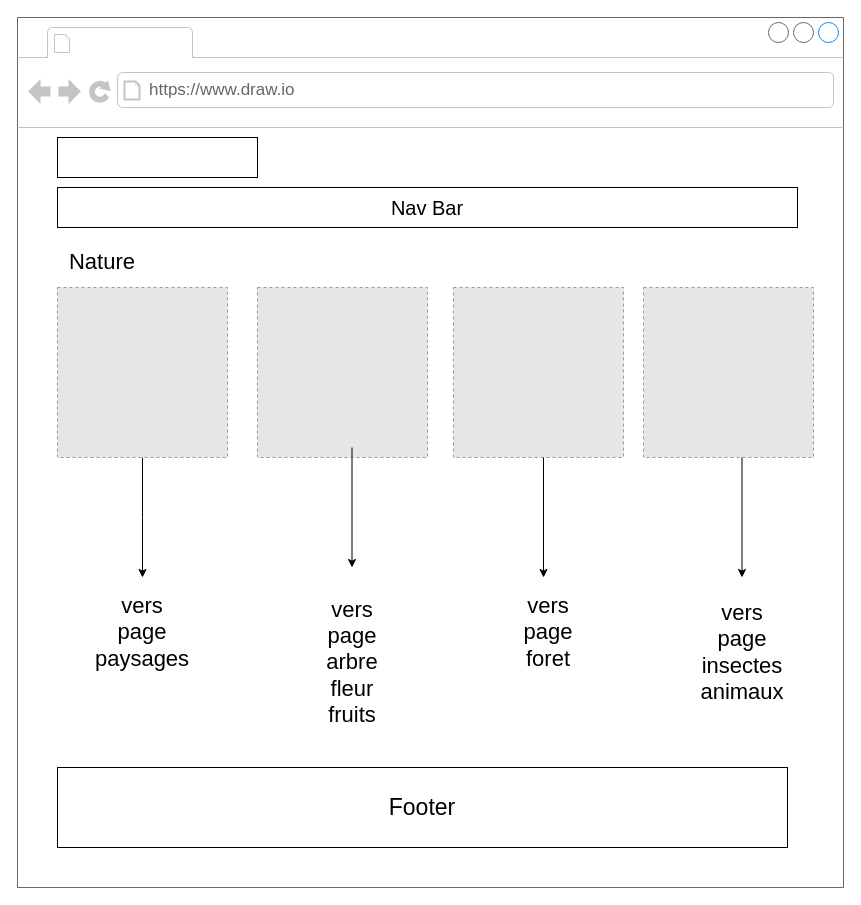
Some shapes in this 861 by 905 pixel diagram are drawn without their labels. Grey dashed boxes stand in for pictures. Each missing label, with the centre of its shape:
Header: [157,157]
Page 1: [132,42]
